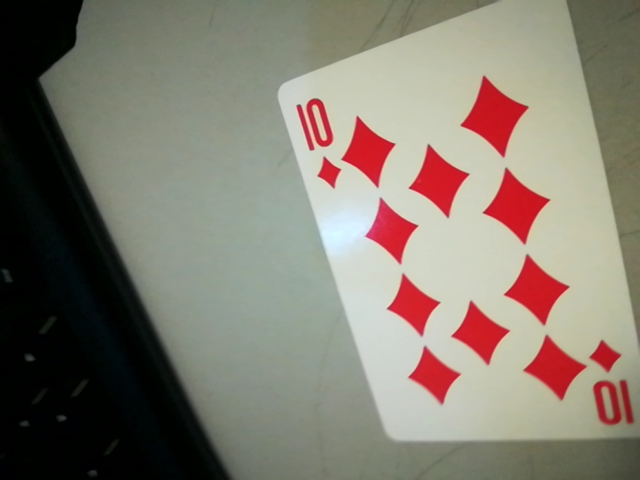fk 10: (286, 89, 347, 192)
